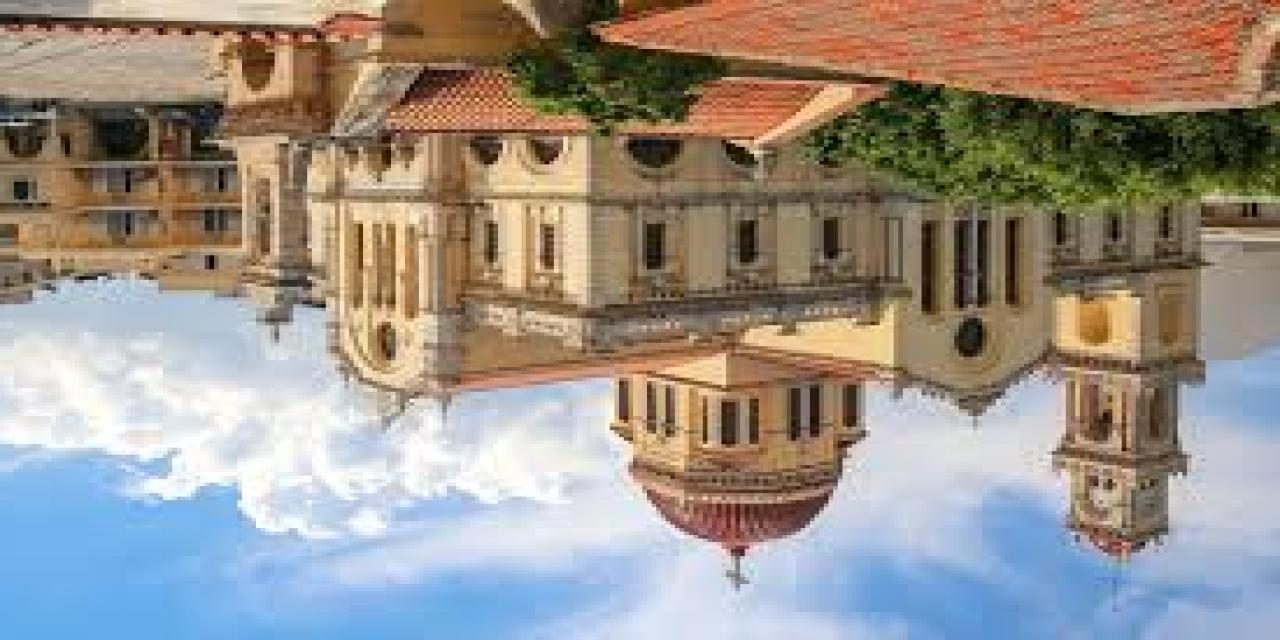Agios Minas: (224, 36, 1204, 615)
